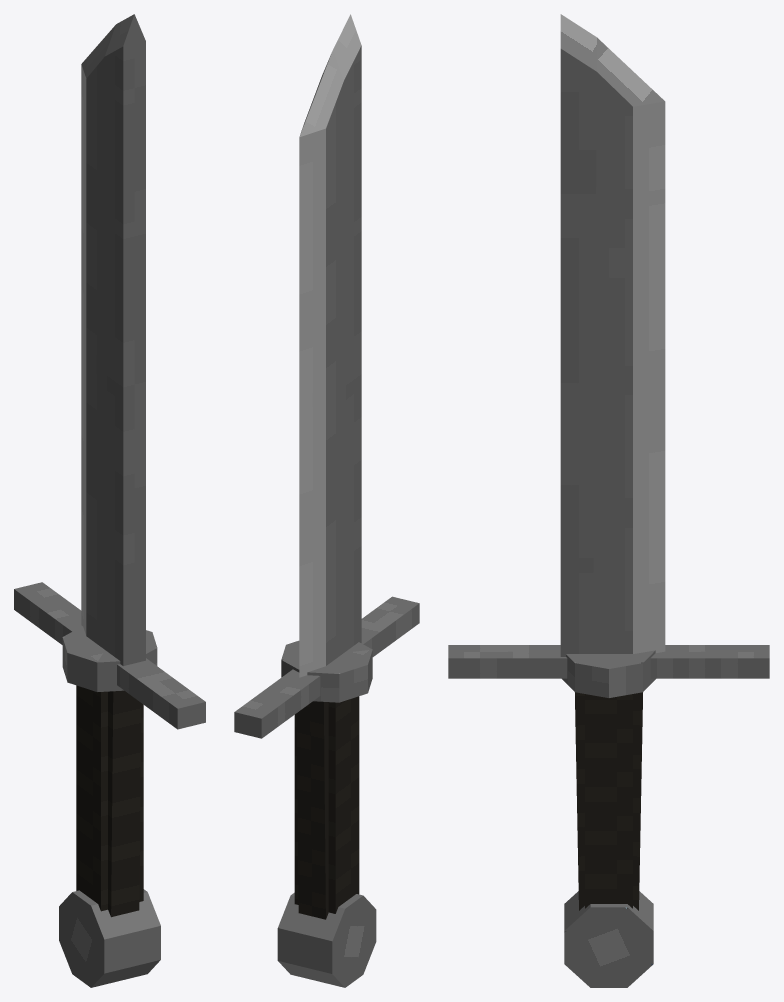
Rendered from falchion.obj.
The picture shows the model from 3 angles, left to right: view 1: azimuth 30°, elevation 25°; view 2: azimuth 150°, elevation 25°; view 3: azimuth 270°, elevation 25°; orthographic projection. The views are drawn at different scales.
Visible parts, largest first — view 1: mesh9, mesh1, mesh2, mesh4, mesh8, mesh6, mesh7, mesh5; view 2: mesh9, mesh1, mesh3, mesh4, mesh7, mesh6, mesh8, mesh5; view 3: mesh9, mesh5, mesh1, mesh8, mesh7, mesh6, mesh2, mesh3.
Part boxes in pixels (x1=…): mesh9: x1=81, y1=14, x2=145, y2=665; mesh1: x1=59, y1=889, x2=160, y2=987; mesh2: x1=108, y1=690, x2=141, y2=917; mesh4: x1=76, y1=685, x2=107, y2=911; mesh8: x1=117, y1=658, x2=205, y2=729; mesh6: x1=62, y1=626, x2=157, y2=691; mesh7: x1=14, y1=582, x2=81, y2=644; mesh5: x1=139, y1=703, x2=143, y2=901; mesh9: x1=299, y1=14, x2=361, y2=677; mesh1: x1=277, y1=892, x2=376, y2=987; mesh3: x1=296, y1=701, x2=328, y2=919; mesh4: x1=328, y1=696, x2=359, y2=913; mesh7: x1=234, y1=669, x2=320, y2=738; mesh6: x1=281, y1=640, x2=372, y2=702; mesh8: x1=361, y1=596, x2=419, y2=656; mesh5: x1=294, y1=713, x2=298, y2=904; mesh9: x1=560, y1=14, x2=665, y2=656; mesh5: x1=585, y1=694, x2=632, y2=908; mesh1: x1=564, y1=891, x2=653, y2=987; mesh8: x1=448, y1=645, x2=567, y2=678; mesh7: x1=650, y1=645, x2=769, y2=678; mesh6: x1=562, y1=650, x2=655, y2=697; mesh2: x1=575, y1=692, x2=584, y2=910; mesh3: x1=633, y1=692, x2=642, y2=910.
Bounding box in the file's own units: 0.1875 × 2.06 × 0.625.
